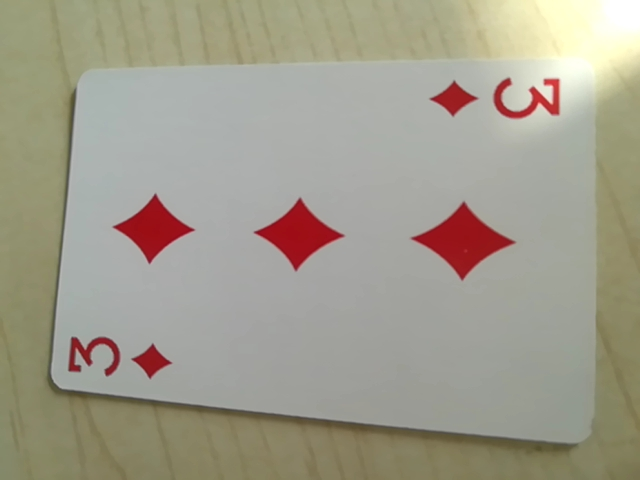fk 3: (431, 66, 563, 130), (60, 322, 179, 391)
